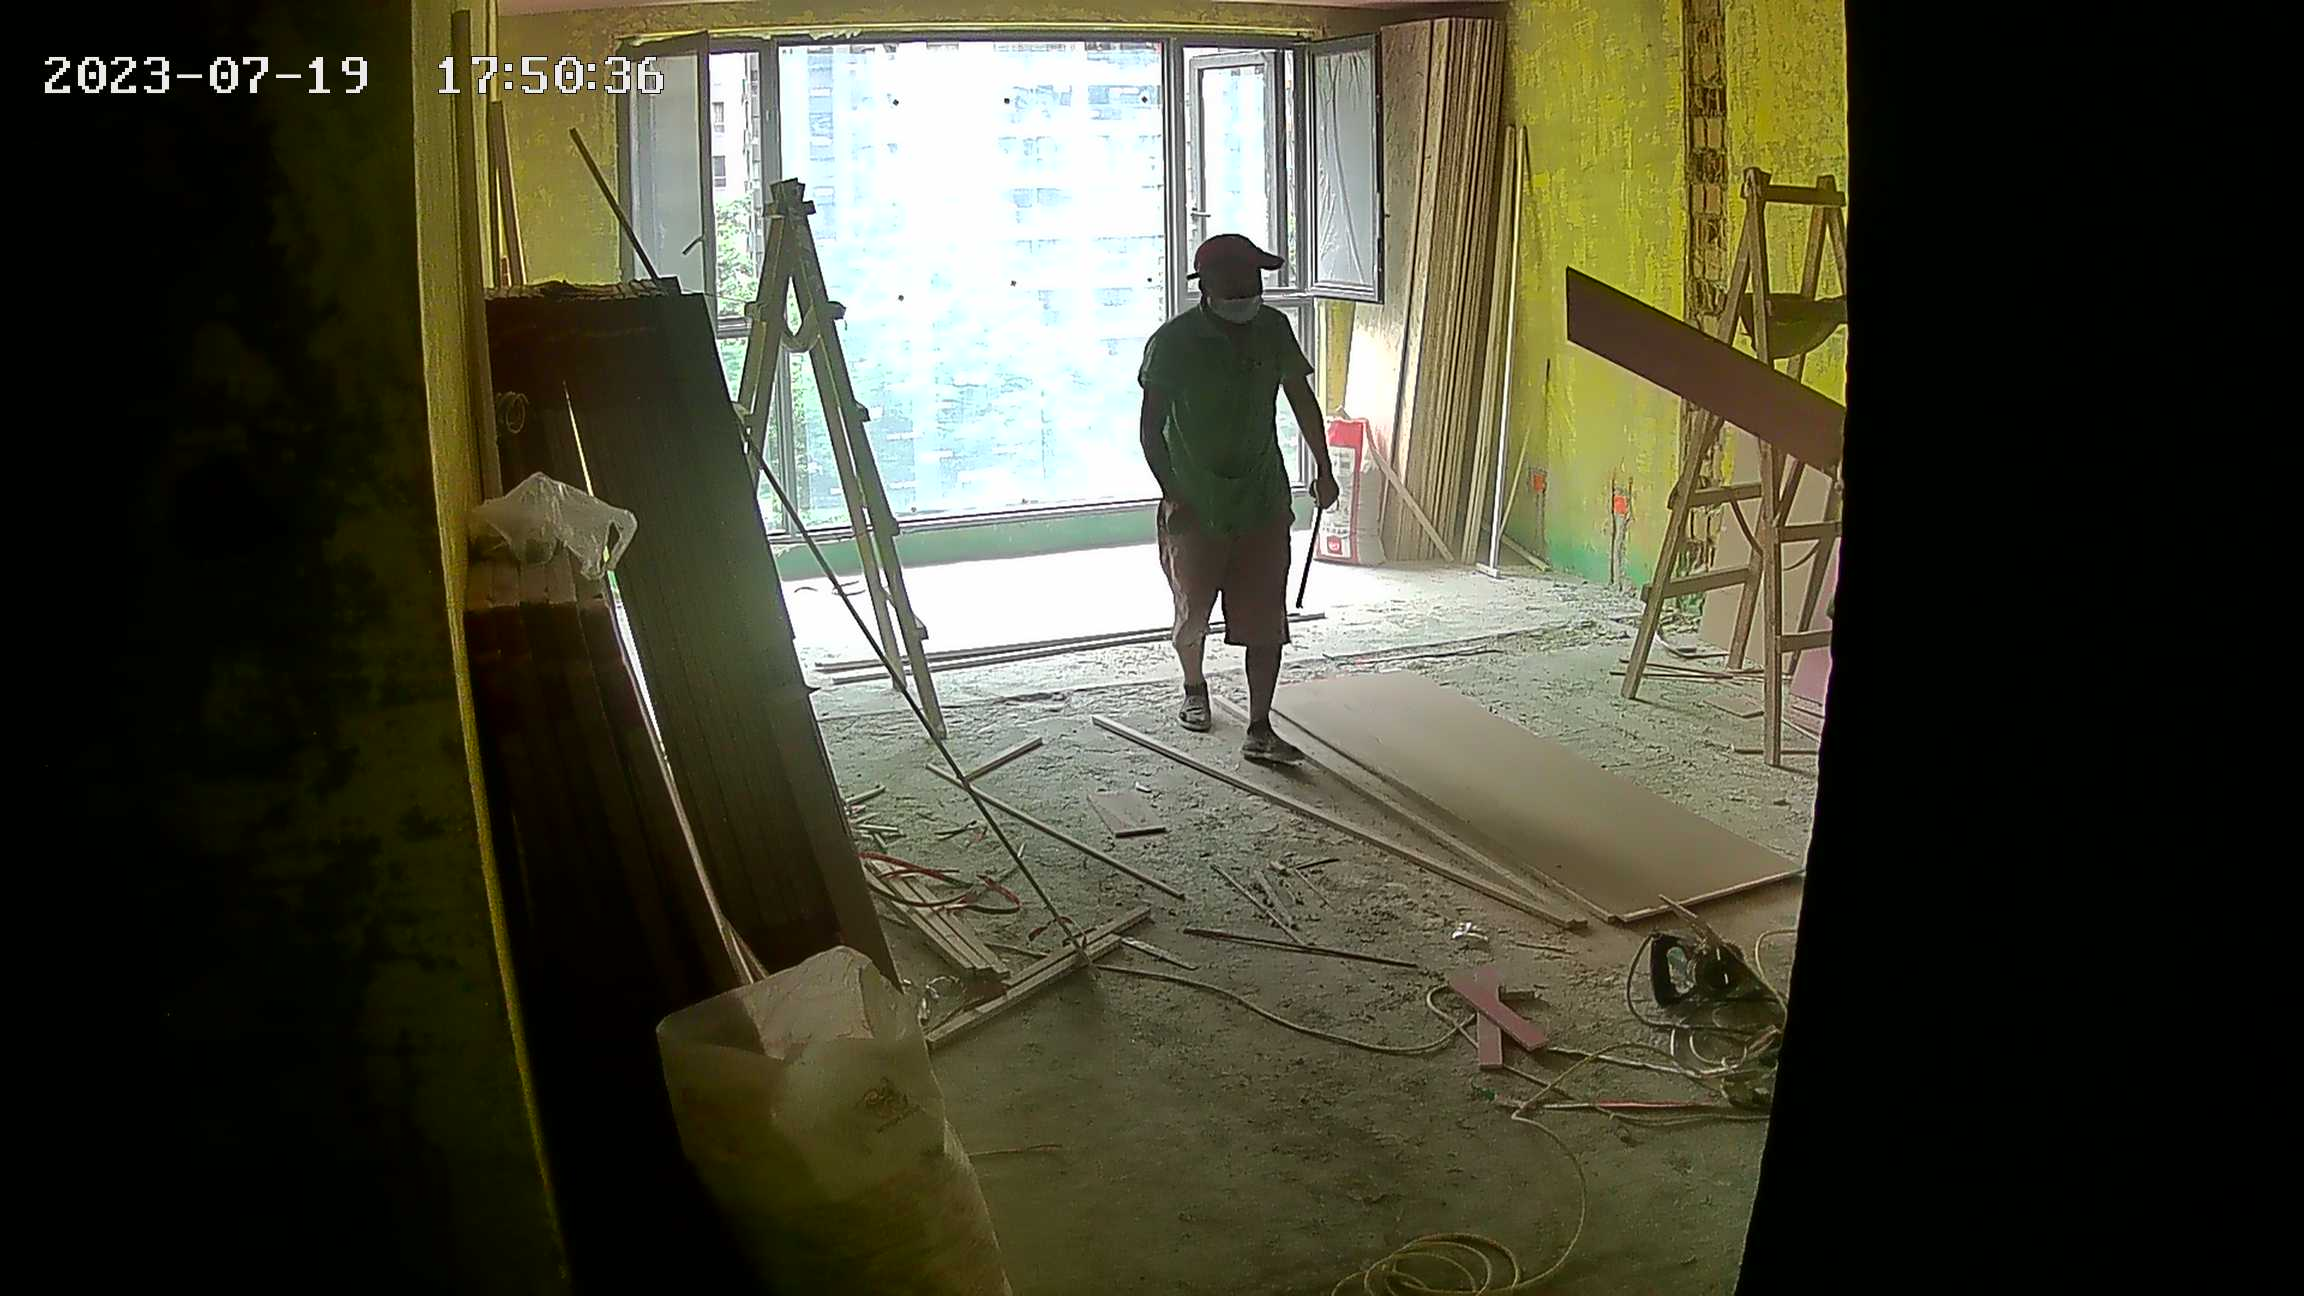people: (1137, 232, 1342, 772)
window: (611, 32, 1319, 516)
